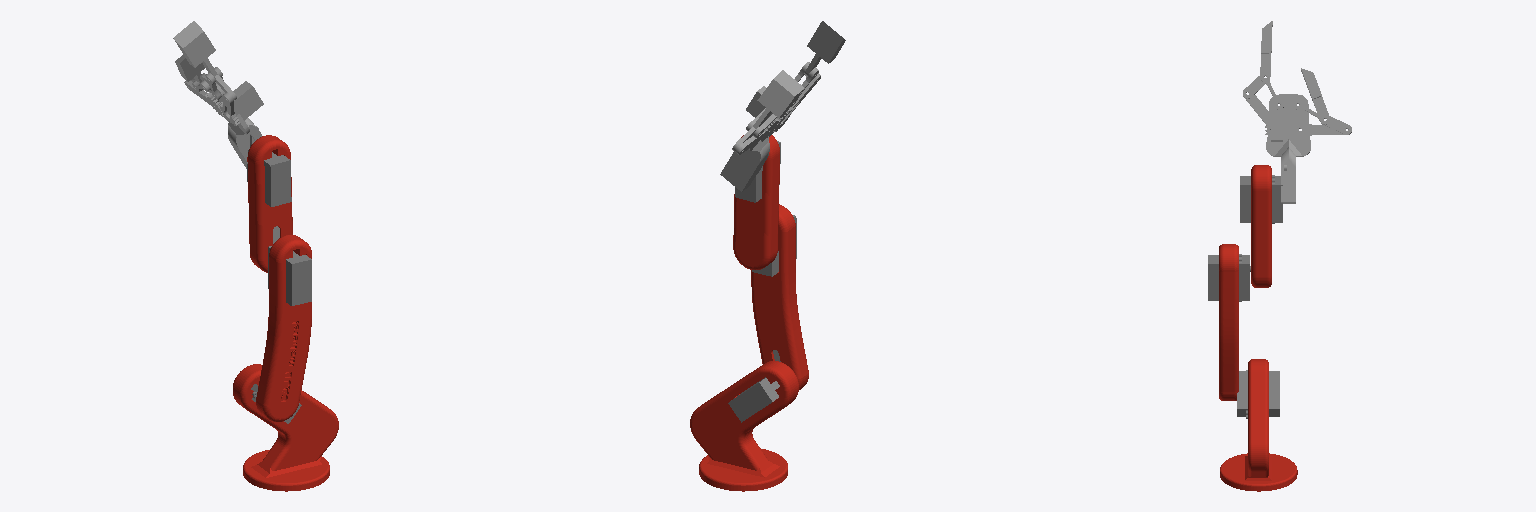
robot.urdf — garra_final:
<?xml version='1.0' encoding='utf-8'?>
<robot name="garra_final">
  <!-- Materials -->
  <material name="Laminado_vermelho_fosco">
    <color rgba="0.769 0.208 0.153 1.0" />
  </material>
  <material name="Alum_nio_prata_anodizada">
    <color rgba="0.537 0.537 0.537 1.0" />
  </material>
  <material name="A_o">
    <color rgba="0.627 0.627 0.627 1.0" />
  </material>
  <link name="garra_base">
    <inertial>
      <origin xyz="0.000333 0.000000 0.041536" rpy="0 0 0" />
      <mass value="0.122493" />
      <inertia ixx="1.488707e-04" ixy="0.000000e+00" ixz="3.196556e-05" iyy="1.961067e-04" iyz="0.000000e+00" izz="8.370648e-05" />
    </inertial>
    <visual>
      <origin xyz="0.000000 0.000000 0.000000" rpy="0.000000 0.000000 0.000000" />
      <geometry>
        <mesh filename="package://garra_final_description/meshes/garra_final/base_link.dae" scale="1 1 1" />
      </geometry>
      <material name="Laminado_vermelho_fosco" />
    </visual>
    <collision>
      <origin xyz="0.000000 0.000000 0.000000" rpy="0.000000 0.000000 0.000000" />
      <geometry>
        <mesh filename="package://garra_final_description/meshes/garra_final/base_link.dae" scale="1 1 1" />
      </geometry>
    </collision>
  </link>
  <link name="shoulder_motor">
    <inertial>
      <origin xyz="-0.016764 -0.000763 0.079997" rpy="0 0 0" />
      <mass value="0.089211" />
      <inertia ixx="1.929411e-05" ixy="-4.785893e-08" ixz="4.449074e-06" iyy="1.495797e-05" iyz="4.048953e-08" izz="2.086252e-05" />
    </inertial>
    <visual>
      <origin xyz="0.000000 0.000000 0.000000" rpy="0.000000 0.000000 0.000000" />
      <geometry>
        <mesh filename="package://garra_final_description/meshes/garra_final/shoulder_motor.dae" scale="1 1 1" />
      </geometry>
      <material name="Alum_nio_prata_anodizada" />
    </visual>
    <collision>
      <origin xyz="0.000000 0.000000 0.000000" rpy="0.000000 0.000000 0.000000" />
      <geometry>
        <mesh filename="package://garra_final_description/meshes/garra_final/shoulder_motor.dae" scale="1 1 1" />
      </geometry>
    </collision>
  </link>
  <link name="garra_final_showder_servo_horn">
    <inertial>
      <origin xyz="-0.006829 0.005264 -0.001500" rpy="0 0 0" />
      <mass value="0.007175" />
      <inertia ixx="1.000000e-06" ixy="2.998637e-07" ixz="0.000000e+00" iyy="1.000000e-06" iyz="0.000000e+00" izz="1.000000e-06" />
    </inertial>
    <visual>
      <origin xyz="0.015787 -0.085385 -0.003000" rpy="0.000000 0.000000 0.000000" />
      <geometry>
        <mesh filename="package://garra_final_description/meshes/garra_final/garra_final_showder_servo_horn.dae" scale="1 1 1" />
      </geometry>
      <material name="A_o" />
    </visual>
    <collision>
      <origin xyz="0.015787 -0.085385 -0.003000" rpy="0.000000 0.000000 0.000000" />
      <geometry>
        <mesh filename="package://garra_final_description/meshes/garra_final/garra_final_showder_servo_horn.dae" scale="1 1 1" />
      </geometry>
    </collision>
  </link>
  <link name="M_dulo_1">
    <inertial>
      <origin xyz="0.018424 -0.033973 0.129529" rpy="0 0 0" />
      <mass value="0.096143" />
      <inertia ixx="1.195199e-04" ixy="-1.450615e-07" ixz="-1.036412e-04" iyy="2.332425e-04" iyz="-1.168777e-07" izz="1.209736e-04" />
    </inertial>
    <visual>
      <origin xyz="0.000000 0.000000 0.000000" rpy="0.000000 0.000000 0.000000" />
      <geometry>
        <mesh filename="package://garra_final_description/meshes/garra_final/M_dulo_1.dae" scale="1 1 1" />
      </geometry>
      <material name="Laminado_vermelho_fosco" />
    </visual>
    <collision>
      <origin xyz="0.000000 0.000000 0.000000" rpy="0.000000 0.000000 0.000000" />
      <geometry>
        <mesh filename="package://garra_final_description/meshes/garra_final/M_dulo_1.dae" scale="1 1 1" />
      </geometry>
    </collision>
  </link>
  <link name="MOTOR_1">
    <inertial>
      <origin xyz="0.053925 -0.033237 0.166019" rpy="0 0 0" />
      <mass value="0.089211" />
      <inertia ixx="2.086308e-05" ixy="-4.010090e-08" ixz="-4.448976e-06" iyy="1.495797e-05" iyz="-4.818499e-08" izz="1.929356e-05" />
    </inertial>
    <visual>
      <origin xyz="0.000000 0.000000 0.000000" rpy="0.000000 0.000000 0.000000" />
      <geometry>
        <mesh filename="package://garra_final_description/meshes/garra_final/MOTOR_1.dae" scale="1 1 1" />
      </geometry>
      <material name="Alum_nio_prata_anodizada" />
    </visual>
    <collision>
      <origin xyz="0.000000 0.000000 0.000000" rpy="0.000000 0.000000 0.000000" />
      <geometry>
        <mesh filename="package://garra_final_description/meshes/garra_final/MOTOR_1.dae" scale="1 1 1" />
      </geometry>
    </collision>
  </link>
  <link name="garra_final_showder_servo_horn_2">
    <inertial>
      <origin xyz="-0.006829 0.005264 0.001500" rpy="0 0 0" />
      <mass value="0.007175" />
      <inertia ixx="1.000000e-06" ixy="2.998637e-07" ixz="0.000000e+00" iyy="1.000000e-06" iyz="0.000000e+00" izz="1.000000e-06" />
    </inertial>
    <visual>
      <origin xyz="0.015787 -0.085385 0.000000" rpy="0.000000 0.000000 0.000000" />
      <geometry>
        <mesh filename="package://garra_final_description/meshes/garra_final/garra_final_showder_servo_horn_2.dae" scale="1 1 1" />
      </geometry>
      <material name="A_o" />
    </visual>
    <collision>
      <origin xyz="0.015787 -0.085385 0.000000" rpy="0.000000 0.000000 0.000000" />
      <geometry>
        <mesh filename="package://garra_final_description/meshes/garra_final/garra_final_showder_servo_horn_2.dae" scale="1 1 1" />
      </geometry>
    </collision>
  </link>
  <link name="M_dulo_2">
    <inertial>
      <origin xyz="0.104698 0.000412 0.173614" rpy="0 0 0" />
      <mass value="0.070749" />
      <inertia ixx="1.156834e-05" ixy="1.910002e-07" ixz="-1.551575e-08" iyy="9.825746e-05" iyz="7.836475e-10" izz="9.164356e-05" />
    </inertial>
    <visual>
      <origin xyz="0.000000 0.000000 0.000000" rpy="0.000000 0.000000 0.000000" />
      <geometry>
        <mesh filename="package://garra_final_description/meshes/garra_final/M_dulo_2.dae" scale="1 1 1" />
      </geometry>
      <material name="Laminado_vermelho_fosco" />
    </visual>
    <collision>
      <origin xyz="0.000000 0.000000 0.000000" rpy="0.000000 0.000000 0.000000" />
      <geometry>
        <mesh filename="package://garra_final_description/meshes/garra_final/M_dulo_2.dae" scale="1 1 1" />
      </geometry>
    </collision>
  </link>
  <link name="MOTOR_1_1">
    <inertial>
      <origin xyz="0.137478 0.000880 0.173458" rpy="0 0 0" />
      <mass value="0.089211" />
      <inertia ixx="1.556066e-05" ixy="-6.268823e-08" ixz="-2.821390e-10" iyy="1.495797e-05" iyz="-2.536528e-10" izz="2.459598e-05" />
    </inertial>
    <visual>
      <origin xyz="0.000000 0.000000 0.000000" rpy="0.000000 0.000000 0.000000" />
      <geometry>
        <mesh filename="package://garra_final_description/meshes/garra_final/MOTOR_1_1.dae" scale="1 1 1" />
      </geometry>
      <material name="Alum_nio_prata_anodizada" />
    </visual>
    <collision>
      <origin xyz="0.000000 0.000000 0.000000" rpy="0.000000 0.000000 0.000000" />
      <geometry>
        <mesh filename="package://garra_final_description/meshes/garra_final/MOTOR_1_1.dae" scale="1 1 1" />
      </geometry>
    </collision>
  </link>
  <link name="garra_final_showder_servo_horn_3">
    <inertial>
      <origin xyz="-0.000294 -0.008617 0.001500" rpy="0 0 0" />
      <mass value="0.007175" />
      <inertia ixx="1.000000e-06" ixy="-2.116718e-08" ixz="0.000000e+00" iyy="1.000000e-06" iyz="0.000000e+00" izz="1.000000e-06" />
    </inertial>
    <visual>
      <origin xyz="-0.055746 0.066574 0.003000" rpy="-3.141593 0.000000 0.879928" />
      <geometry>
        <mesh filename="package://garra_final_description/meshes/garra_final/garra_final_showder_servo_horn_3.dae" scale="1 1 1" />
      </geometry>
      <material name="A_o" />
    </visual>
    <collision>
      <origin xyz="-0.055746 0.066574 0.003000" rpy="-3.141593 0.000000 0.879928" />
      <geometry>
        <mesh filename="package://garra_final_description/meshes/garra_final/garra_final_showder_servo_horn_3.dae" scale="1 1 1" />
      </geometry>
    </collision>
  </link>
  <link name="Base">
    <inertial>
      <origin xyz="-0.057386 -0.026808 0.002045" rpy="0 0 0" />
      <mass value="0.191532" />
      <inertia ixx="1.578035e-04" ixy="-3.919167e-07" ixz="4.397693e-08" iyy="1.697283e-05" iyz="-2.047143e-07" izz="1.622377e-04" />
    </inertial>
    <visual>
      <origin xyz="0.000000 0.000000 0.000000" rpy="0.000000 0.000000 0.000000" />
      <geometry>
        <mesh filename="package://garra_final_description/meshes/Configura_o_1/Base.dae" scale="1 1 1" />
      </geometry>
      <material name="A_o" />
    </visual>
    <collision>
      <origin xyz="0.000000 0.000000 0.000000" rpy="0.000000 0.000000 0.000000" />
      <geometry>
        <mesh filename="package://garra_final_description/meshes/Configura_o_1/Base.dae" scale="1 1 1" />
      </geometry>
    </collision>
  </link>
  <link name="Motor">
    <inertial>
      <origin xyz="0.044221 0.026721 0.011750" rpy="0 0 0" />
      <mass value="0.050915" />
      <inertia ixx="4.587663e-06" ixy="0.000000e+00" ixz="0.000000e+00" iyy="2.954137e-06" iyz="0.000000e+00" izz="2.855489e-06" />
    </inertial>
    <visual>
      <origin xyz="0.000000 0.000000 0.000000" rpy="0.000000 0.000000 0.000000" />
      <geometry>
        <mesh filename="package://garra_final_description/meshes/Configura_o_1/Motor.dae" scale="1 1 1" />
      </geometry>
      <material name="A_o" />
    </visual>
    <collision>
      <origin xyz="0.000000 0.000000 0.000000" rpy="0.000000 0.000000 0.000000" />
      <geometry>
        <mesh filename="package://garra_final_description/meshes/Configura_o_1/Motor.dae" scale="1 1 1" />
      </geometry>
    </collision>
  </link>
  <link name="Engr_2">
    <inertial>
      <origin xyz="-0.012589 -0.010130 -0.001895" rpy="0 0 0" />
      <mass value="0.020209" />
      <inertia ixx="2.815627e-06" ixy="-2.942728e-06" ixz="-1.341961e-08" iyy="4.114715e-06" iyz="-1.102947e-08" izz="6.875480e-06" />
    </inertial>
    <visual>
      <origin xyz="0.062176 0.062886 0.004000" rpy="3.141593 0.000000 1.462285" />
      <geometry>
        <mesh filename="package://garra_final_description/meshes/Configura_o_1/Engr_2.dae" scale="1 1 1" />
      </geometry>
      <material name="A_o" />
    </visual>
    <collision>
      <origin xyz="0.062176 0.062886 0.004000" rpy="3.141593 0.000000 1.462285" />
      <geometry>
        <mesh filename="package://garra_final_description/meshes/Configura_o_1/Engr_2.dae" scale="1 1 1" />
      </geometry>
    </collision>
  </link>
  <link name="Junta_1">
    <inertial>
      <origin xyz="-0.013345 -0.006703 -0.002000" rpy="0 0 0" />
      <mass value="0.006788" />
      <inertia ixx="1.000000e-06" ixy="-4.401022e-07" ixz="0.000000e+00" iyy="1.000000e-06" iyz="0.000000e+00" izz="1.165360e-06" />
    </inertial>
    <visual>
      <origin xyz="0.096130 0.039228 -0.008000" rpy="0.000000 0.000000 -0.476992" />
      <geometry>
        <mesh filename="package://garra_final_description/meshes/Configura_o_1/Junta_1.dae" scale="1 1 1" />
      </geometry>
      <material name="A_o" />
    </visual>
    <collision>
      <origin xyz="0.096130 0.039228 -0.008000" rpy="0.000000 0.000000 -0.476992" />
      <geometry>
        <mesh filename="package://garra_final_description/meshes/Configura_o_1/Junta_1.dae" scale="1 1 1" />
      </geometry>
    </collision>
  </link>
  <link name="Junta_1_1">
    <inertial>
      <origin xyz="-0.013345 -0.006703 0.002000" rpy="0 0 0" />
      <mass value="0.006788" />
      <inertia ixx="1.000000e-06" ixy="-4.401022e-07" ixz="0.000000e+00" iyy="1.000000e-06" iyz="0.000000e+00" izz="1.165360e-06" />
    </inertial>
    <visual>
      <origin xyz="0.041768 0.030664 -0.004000" rpy="0.000000 0.000000 -1.733629" />
      <geometry>
        <mesh filename="package://garra_final_description/meshes/Configura_o_1/Junta_1_1.dae" scale="1 1 1" />
      </geometry>
      <material name="A_o" />
    </visual>
    <collision>
      <origin xyz="0.041768 0.030664 -0.004000" rpy="0.000000 0.000000 -1.733629" />
      <geometry>
        <mesh filename="package://garra_final_description/meshes/Configura_o_1/Junta_1_1.dae" scale="1 1 1" />
      </geometry>
    </collision>
  </link>
  <link name="Engr_1">
    <inertial>
      <origin xyz="-0.000027 0.015123 -0.002000" rpy="0 0 0" />
      <mass value="0.023094" />
      <inertia ixx="6.798312e-06" ixy="1.133009e-08" ixz="0.000000e+00" iyy="1.000000e-06" iyz="0.000000e+00" izz="7.204434e-06" />
    </inertial>
    <visual>
      <origin xyz="0.071958 -0.005705 0.004000" rpy="3.141593 0.000000 0.787188" />
      <geometry>
        <mesh filename="package://garra_final_description/meshes/Configura_o_1/Engr_1.dae" scale="1 1 1" />
      </geometry>
      <material name="A_o" />
    </visual>
    <collision>
      <origin xyz="0.071958 -0.005705 0.004000" rpy="3.141593 0.000000 0.787188" />
      <geometry>
        <mesh filename="package://garra_final_description/meshes/Configura_o_1/Engr_1.dae" scale="1 1 1" />
      </geometry>
    </collision>
  </link>
  <link name="Junta_2">
    <inertial>
      <origin xyz="0.007173 0.013099 -0.002000" rpy="0 0 0" />
      <mass value="0.006788" />
      <inertia ixx="1.000000e-06" ixy="-4.622335e-07" ixz="0.000000e+00" iyy="1.000000e-06" iyz="0.000000e+00" izz="1.165360e-06" />
    </inertial>
    <visual>
      <origin xyz="-0.085134 -0.072371 -0.008000" rpy="0.000000 0.000000 2.012283" />
      <geometry>
        <mesh filename="package://garra_final_description/meshes/Configura_o_1/Junta_2.dae" scale="1 1 1" />
      </geometry>
      <material name="A_o" />
    </visual>
    <collision>
      <origin xyz="-0.085134 -0.072371 -0.008000" rpy="0.000000 0.000000 2.012283" />
      <geometry>
        <mesh filename="package://garra_final_description/meshes/Configura_o_1/Junta_2.dae" scale="1 1 1" />
      </geometry>
    </collision>
  </link>
  <link name="Junta">
    <inertial>
      <origin xyz="0.007173 0.013099 0.002000" rpy="0 0 0" />
      <mass value="0.006788" />
      <inertia ixx="1.000000e-06" ixy="-4.622335e-07" ixz="0.000000e+00" iyy="1.000000e-06" iyz="0.000000e+00" izz="1.165360e-06" />
    </inertial>
    <visual>
      <origin xyz="-0.092300 0.010454 -0.004000" rpy="0.000000 0.000000 2.012283" />
      <geometry>
        <mesh filename="package://garra_final_description/meshes/Configura_o_1/Junta.dae" scale="1 1 1" />
      </geometry>
      <material name="A_o" />
    </visual>
    <collision>
      <origin xyz="-0.092300 0.010454 -0.004000" rpy="0.000000 0.000000 2.012283" />
      <geometry>
        <mesh filename="package://garra_final_description/meshes/Configura_o_1/Junta.dae" scale="1 1 1" />
      </geometry>
    </collision>
  </link>
  <link name="P_1">
    <inertial>
      <origin xyz="-0.043864 0.017082 0.002000" rpy="0 0 0" />
      <mass value="0.067383" />
      <inertia ixx="4.266957e-06" ixy="4.103313e-06" ixz="0.000000e+00" iyy="2.329528e-05" iyz="0.000000e+00" izz="2.249340e-05" />
    </inertial>
    <visual>
      <origin xyz="0.090726 0.097578 0.004000" rpy="3.141593 0.000000 1.531470" />
      <geometry>
        <mesh filename="package://garra_final_description/meshes/Configura_o_1/P_1.dae" scale="1 1 1" />
      </geometry>
      <material name="A_o" />
    </visual>
    <collision>
      <origin xyz="0.090726 0.097578 0.004000" rpy="3.141593 0.000000 1.531470" />
      <geometry>
        <mesh filename="package://garra_final_description/meshes/Configura_o_1/P_1.dae" scale="1 1 1" />
      </geometry>
    </collision>
  </link>
  <link name="P_1_1">
    <inertial>
      <origin xyz="-0.036361 -0.029895 0.002000" rpy="0 0 0" />
      <mass value="0.067383" />
      <inertia ixx="8.541989e-06" ixy="-8.939125e-06" ixz="0.000000e+00" iyy="1.902025e-05" iyz="0.000000e+00" izz="2.249340e-05" />
    </inertial>
    <visual>
      <origin xyz="0.076169 0.044258 0.004000" rpy="3.141593 0.000000 1.926866" />
      <geometry>
        <mesh filename="package://garra_final_description/meshes/Configura_o_1/P_1_1.dae" scale="1 1 1" />
      </geometry>
      <material name="A_o" />
    </visual>
    <collision>
      <origin xyz="0.076169 0.044258 0.004000" rpy="3.141593 0.000000 1.926866" />
      <geometry>
        <mesh filename="package://garra_final_description/meshes/Configura_o_1/P_1_1.dae" scale="1 1 1" />
      </geometry>
    </collision>
  </link>
  <joint name="R_gido" type="fixed">
    <parent link="garra_base" />
    <child link="shoulder_motor" />
    <origin xyz="-0.002399 0.000644 0.000258" rpy="0.000000 0.011578 0.000000" />
  </joint>
  <joint name="Revolucionar_46" type="revolute">
    <parent link="shoulder_motor" />
    <child link="garra_final_showder_servo_horn" />
    <origin xyz="-0.023838 -0.025144 0.086064" rpy="1.570796 1.131260 0.000000" />
    <axis xyz="0.000000 0.000000 1.000000" />
    <limit lower="-0.69" upper="2.29" effort="1.86" velocity="1.30" />
  </joint>
  <joint name="R_gido_47" type="fixed">
    <parent link="garra_final_showder_servo_horn" />
    <child link="M_dulo_1" />
    <origin xyz="0.074914 0.050317 -0.030000" rpy="-1.570796 0.000000 1.832596" />
  </joint>
  <joint name="R_gido_48" type="fixed">
    <parent link="M_dulo_1" />
    <child link="MOTOR_1" />
    <origin xyz="0.002592 -0.000644 0.004103" rpy="0.000000 0.000000 0.000000" />
  </joint>
  <joint name="Revolucionar_49" type="revolute">
    <parent link="MOTOR_1" />
    <child link="garra_final_showder_servo_horn_2" />
    <origin xyz="0.059838 -0.008856 0.173222" rpy="1.570796 1.536874 0.000000" />
    <axis xyz="0.000000 0.000000 -1.000000" />
    <limit lower="-1.55" upper="1.79" effort="1.86" velocity="1.30" />
  </joint>
  <joint name="R_gido_50" type="fixed">
    <parent link="garra_final_showder_servo_horn_2" />
    <child link="M_dulo_2" />
    <origin xyz="0.160854 0.091479 -0.006666" rpy="-1.570796 0.000000 2.443461" />
  </joint>
  <joint name="R_gido_65" type="fixed">
    <parent link="M_dulo_2" />
    <child link="MOTOR_1_1" />
    <origin xyz="-0.000300 -0.000428 0.000662" rpy="0.000000 0.000000 0.000000" />
  </joint>
  <joint name="Revolucionar_72" type="revolute">
    <parent link="MOTOR_1_1" />
    <child link="garra_final_showder_servo_horn_3" />
    <origin xyz="0.146796 0.022261 0.173559" rpy="1.570796 1.545249 3.141593" />
    <axis xyz="0 0 -1" />
    <limit lower="-1.99" upper="1.22" effort="1.86" velocity="1.30" />
  </joint>
  <joint name="R_gido_73" type="fixed">
    <parent link="garra_final_showder_servo_horn_3" />
    <child link="Base" />
    <origin xyz="0.001272 -0.004945 0.062500" rpy="-0.896983 -1.570796 0.386126" />
  </joint>
  <joint name="R_gido_77" type="fixed">
    <parent link="Base" />
    <child link="Motor" />
    <origin xyz="-0.113471 -0.081721 -0.023500" rpy="0.000000 0.000000 0.000000" />
  </joint>
  <joint name="Revolucionar_85" type="fixed">
    <parent link="Base" />
    <child link="Engr_2" />
    <origin xyz="-0.069250 -0.055000 0.004000" rpy="-3.141593 0.000000 1.570796" />
  </joint>
  <joint name="Revolucionar_87" type="fixed">
    <parent link="Base" />
    <child link="Junta_1" />
    <origin xyz="-0.067140 -0.079000 0.004000" rpy="-3.141593 0.000000 1.570796" />
  </joint>
  <joint name="Revolucionar_89" type="fixed">
    <parent link="Base" />
    <child link="Junta_1_1" />
    <origin xyz="-0.067140 -0.079000 0.000000" rpy="-3.141593 0.000000 1.570796" />
  </joint>
  <joint name="Revolucionar_91" type="fixed">
    <parent link="Base" />
    <child link="Engr_1" />
    <origin xyz="-0.046750 -0.055000 0.004000" rpy="-3.141593 0.000000 1.570796" />
  </joint>
  <joint name="Revolucionar_93" type="fixed">
    <parent link="Base" />
    <child link="Junta_2" />
    <origin xyz="-0.048860 -0.079000 0.004000" rpy="-3.141593 0.000000 1.570796" />
  </joint>
  <joint name="Revolucionar_95" type="fixed">
    <parent link="Base" />
    <child link="Junta" />
    <origin xyz="-0.048860 -0.079000 0.000000" rpy="-3.141593 0.000000 1.570796" />
  </joint>
  <joint name="Revolucionar_86" type="fixed">
    <parent link="Engr_2" />
    <child link="P_1" />
    <origin xyz="-0.035079 -0.028187 0.000000" rpy="0.000000 0.000000 0.000000" />
  </joint>
  <joint name="Revolucionar_92" type="fixed">
    <parent link="Engr_1" />
    <child link="P_1_1" />
    <origin xyz="-0.000081 0.045000 0.000000" rpy="0.000000 0.000000 0.000000" />
  </joint>
  <!-- ROS 2 control: generated generic system -->
</robot>

--- What the picture shows (computed from the rendered views, not written in the file) ---
3 views of the same robot in one strip: view 1: azimuth 30°, elevation 25°; view 2: azimuth 150°, elevation 25°; view 3: azimuth 270°, elevation 25° (orthographic).
Model garra_final with 19 links and 18 joints (3 revolute, 15 fixed), rooted at garra_base, posed every joint at zero.
Links seen in each view (by area): view 1: garra_base, M_dulo_1, M_dulo_2, P_1, MOTOR_1, MOTOR_1_1, Base, Motor; view 2: garra_base, M_dulo_1, M_dulo_2, P_1_1, Base, shoulder_motor, P_1; view 3: garra_base, M_dulo_1, Base, M_dulo_2, MOTOR_1, MOTOR_1_1, shoulder_motor, P_1_1, P_1.
Boxes of the visible links, x1,y1,x2,y2 form: garra_base: (233,364,338,491); M_dulo_1: (256,235,311,421); M_dulo_2: (247,135,292,272); P_1: (173,21,236,99); MOTOR_1: (268,246,311,305); MOTOR_1_1: (247,149,291,206); Base: (200,73,261,168); Motor: (233,81,263,120); garra_base: (690,361,798,491); M_dulo_1: (751,204,808,389); M_dulo_2: (733,135,779,269); P_1_1: (732,70,803,151); Base: (720,113,773,191); shoulder_motor: (728,377,779,422); P_1: (804,21,845,77); garra_base: (1220,359,1297,491); M_dulo_1: (1219,244,1238,400); Base: (1266,94,1310,203); M_dulo_2: (1251,165,1271,287); MOTOR_1: (1208,254,1250,301); MOTOR_1_1: (1240,175,1282,223); shoulder_motor: (1237,370,1279,418); P_1_1: (1301,68,1351,134); P_1: (1243,21,1272,98).
Bounding box of the posed robot: 0.153 × 0.1392 × 0.4441 m (x, y, z).
19 mesh visuals loaded from 19 distinct referenced files (19 Collada DAE).
